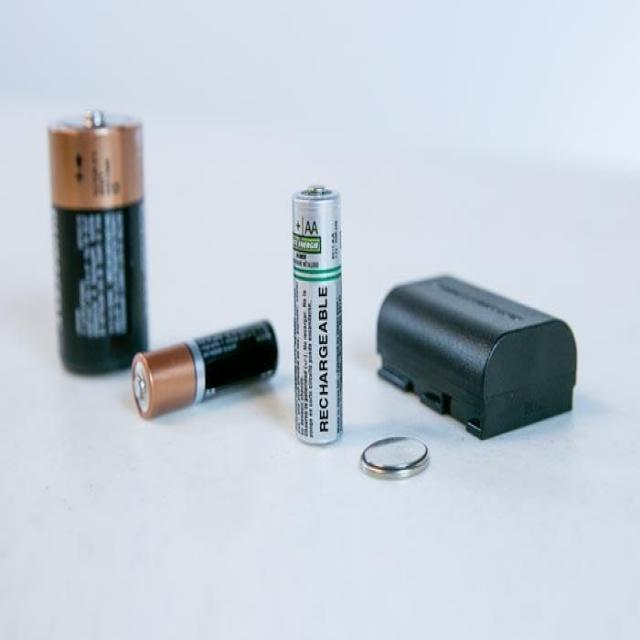AA: (129, 316, 282, 424), (291, 183, 346, 451)
COIN: (356, 432, 433, 484)
